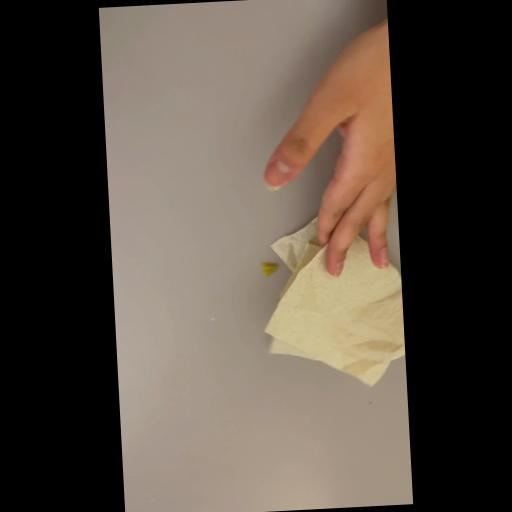napkin: (258, 215, 407, 391)
